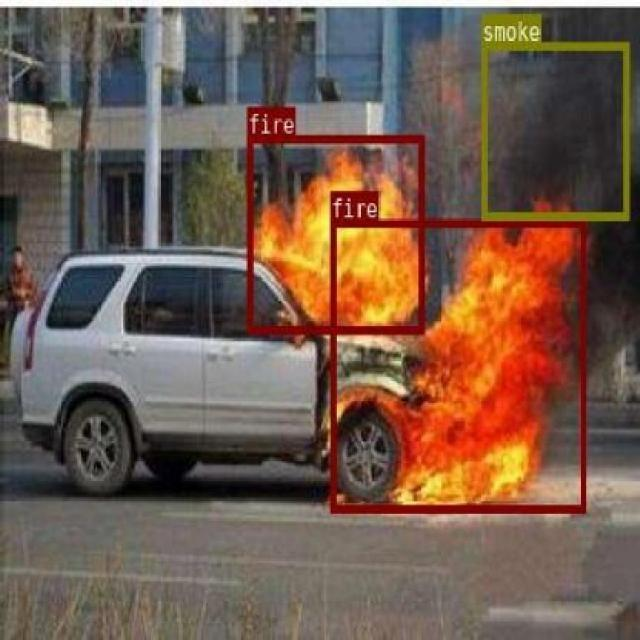fire: (330, 218, 585, 512), (247, 133, 424, 332)
smoke: (480, 41, 628, 220)
